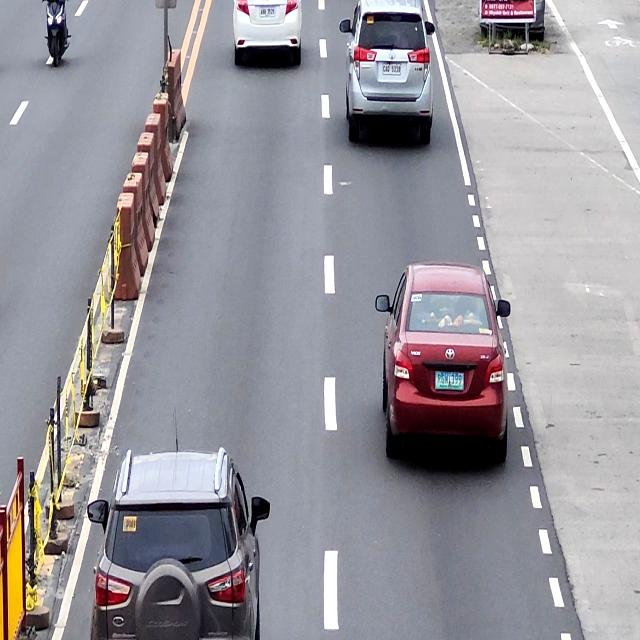Car: (88, 449, 271, 640), (374, 262, 510, 465), (341, 0, 436, 147), (232, 0, 304, 65)
License-Plate: (435, 372, 463, 389), (382, 62, 402, 76), (258, 6, 275, 17)
